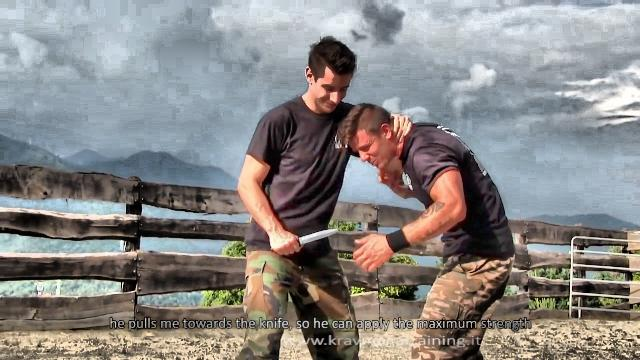knife: (269, 223, 343, 257)
